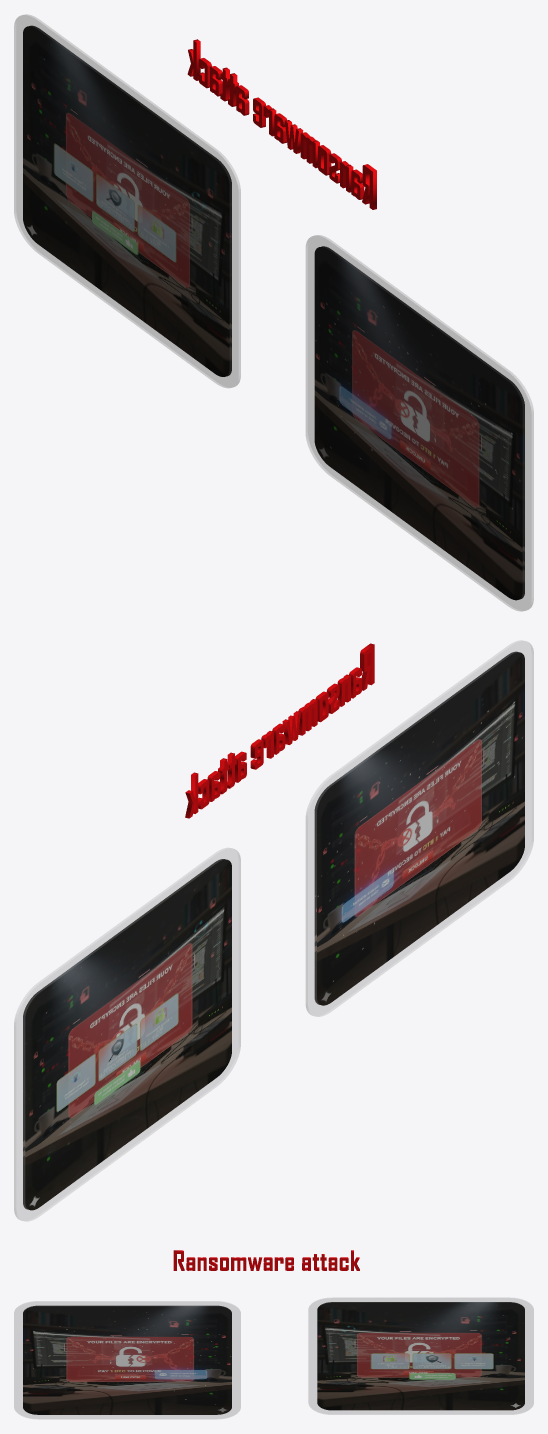
File: ransomware_attack2.glb
3 views of the same model, one above another, from view 1: azimuth 30°, elevation 25°; view 2: azimuth 150°, elevation 25°; view 3: azimuth 270°, elevation 25° (orthographic). The views are drawn at different scales.
Visible parts, largest first — view 1: Plane, Plane.001, Text; view 2: Plane, Plane.001, Text; view 3: Plane, Plane.001, Text.
Part boxes in pixels (bbox=[...]): Plane: bbox=[306, 235, 533, 611]; Plane.001: bbox=[14, 14, 240, 387]; Text: bbox=[187, 39, 376, 209]; Plane: bbox=[306, 640, 533, 1016]; Plane.001: bbox=[14, 848, 240, 1221]; Text: bbox=[185, 643, 374, 818]; Plane: bbox=[14, 1301, 240, 1419]; Plane.001: bbox=[308, 1297, 533, 1414]; Text: bbox=[173, 1250, 359, 1270].
Bounding box in the file's own units: 0.0517 × 3.66 × 10.23.
5 materials, 2 textured.
